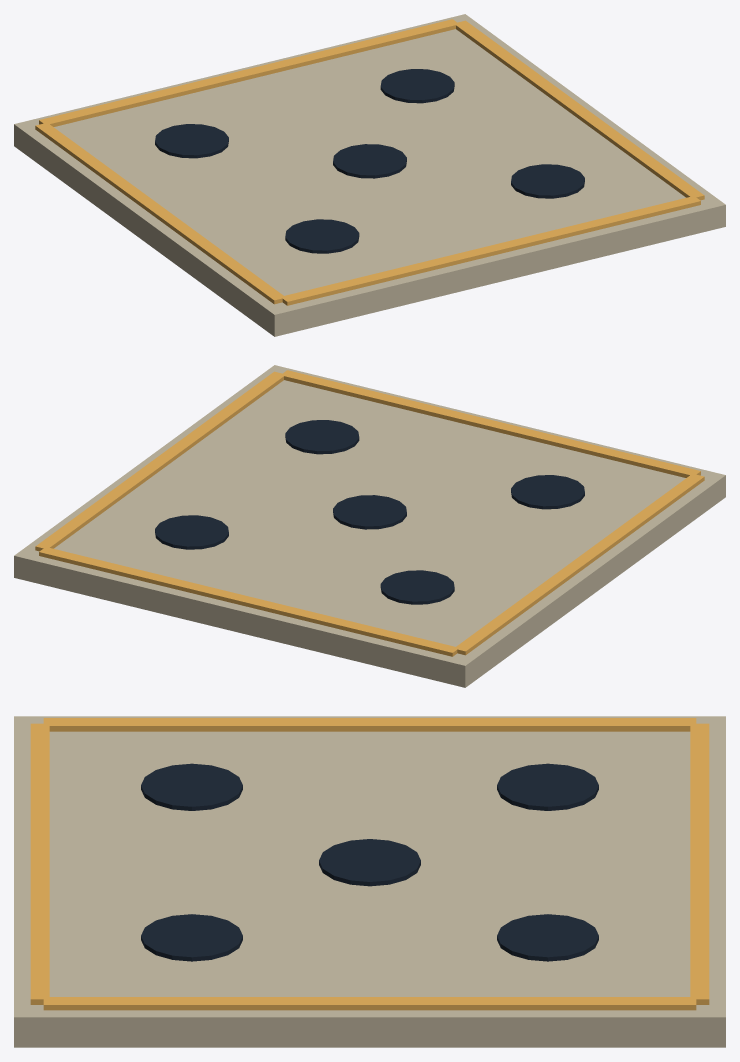
The model's file is space_die_cream_face_5.glb.
3 views of the same model, one above another, from view 1: azimuth 30°, elevation 25°; view 2: azimuth 150°, elevation 25°; view 3: azimuth 270°, elevation 25° (orthographic). The views are drawn at different scales.
Parts seen in each view (by area): view 1: FixedDetails, BrassTrim; view 2: FixedDetails, BrassTrim; view 3: FixedDetails, BrassTrim.
Part boxes in pixels (x1,y1,x2,y2): FixedDetails: [14, 14, 725, 336]; BrassTrim: [35, 19, 704, 305]; FixedDetails: [14, 365, 725, 687]; BrassTrim: [35, 370, 704, 656]; FixedDetails: [14, 716, 725, 1047]; BrassTrim: [30, 718, 709, 1010].
Bounding box in the file's own units: 0.6 × 0.034 × 0.6.
